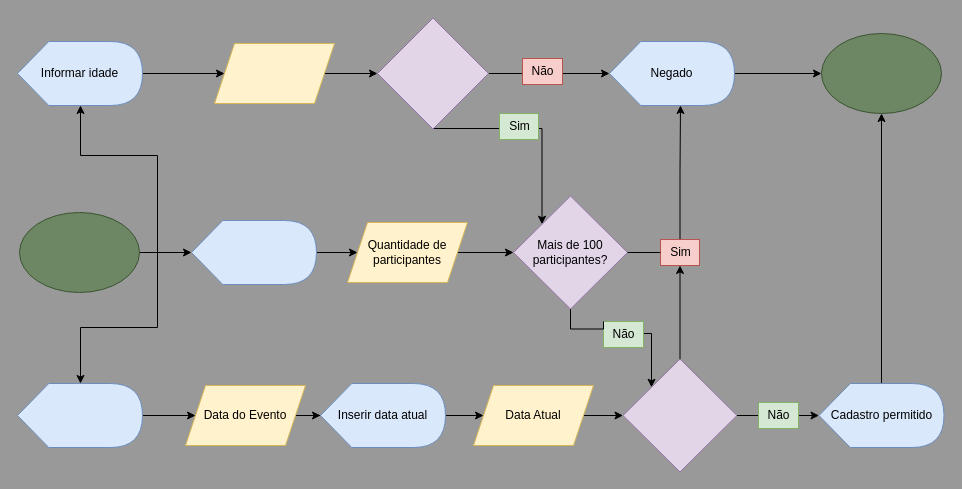
Image size: 962x489. Some labels were removed from this diagram. The shapes that lost their labels are listed below. From the top down, each one's box as (x1, y1, x2, y2) in pixels, then its label:
(214, 42, 334, 104): Idade
(376, 17, 488, 129): Maior de 18?
(820, 32, 942, 114): Fim
(18, 212, 140, 292): Início
(190, 220, 316, 284): Listar participantes e palestrantes
(16, 382, 142, 448): Informar data do evento
(622, 358, 737, 472): Data do evento passou?
